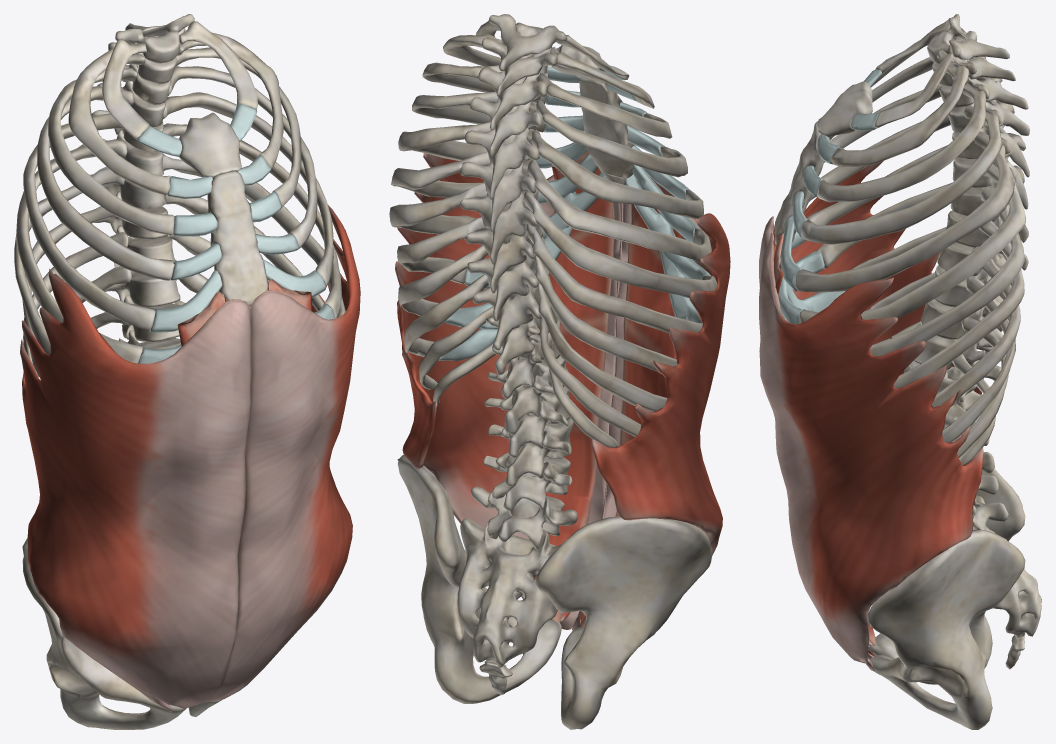
Rendered from abs-superficial.glb.
3 renders of one model, left to right at view 1: azimuth 30°, elevation 25°; view 2: azimuth 150°, elevation 25°; view 3: azimuth 270°, elevation 25°, orthographic. The views are drawn at different scales.
Parts seen in each view (by area): view 1: Right_external_abdominal_oblique_and_aponeurosis, Left_external_abdominal_oblique_and_aponeurosis, Right_hip_bone__os_coxa_or_innominate_bone_, Body_of_sternum, Right_4th_rib, Right_5th_rib, Right_3rd_rib, Right_2nd_rib, Manubrium, Right_6th_rib, Left_5th_rib, Left_4th_rib (+32 smaller); view 2: Right_hip_bone__os_coxa_or_innominate_bone_, Right_external_abdominal_oblique_and_aponeurosis, Left_external_abdominal_oblique_and_aponeurosis, Left_hip_bone__os_coxa_or_innominate_bone_, Sacrum, Left_rectus_abdominis, Right_rectus_abdominis, Right_7th_rib, Right_6th_rib, Right_5th_rib, Right_8th_rib, L5_vertebra (+47 smaller); view 3: Left_external_abdominal_oblique_and_aponeurosis, Left_hip_bone__os_coxa_or_innominate_bone_, Right_external_abdominal_oblique_and_aponeurosis, Left_5th_rib, Left_4th_rib, Left_6th_rib, Left_3rd_rib, Left_7th_rib, Left_2nd_rib, Left_8th_rib, Right_hip_bone__os_coxa_or_innominate_bone_, Left_9th_rib (+32 smaller).
Boxes of the visible parts, bbox=[...] form: Right_external_abdominal_oblique_and_aponeurosis: bbox=[20, 268, 251, 711]; Left_external_abdominal_oblique_and_aponeurosis: bbox=[204, 204, 360, 702]; Right_hip_bone__os_coxa_or_innominate_bone_: bbox=[22, 538, 186, 729]; Body_of_sternum: bbox=[207, 171, 268, 306]; Right_4th_rib: bbox=[37, 85, 174, 280]; Right_5th_rib: bbox=[23, 113, 155, 331]; Right_3rd_rib: bbox=[48, 67, 174, 235]; Right_2nd_rib: bbox=[68, 48, 169, 195]; Manubrium: bbox=[179, 112, 241, 177]; Right_6th_rib: bbox=[16, 139, 142, 363]; Left_5th_rib: bbox=[163, 92, 333, 287]; Left_4th_rib: bbox=[168, 66, 317, 248]; Right_hip_bone__os_coxa_or_innominate_bone_: bbox=[535, 516, 712, 729]; Right_external_abdominal_oblique_and_aponeurosis: bbox=[572, 184, 730, 630]; Left_external_abdominal_oblique_and_aponeurosis: bbox=[395, 153, 623, 629]; Left_hip_bone__os_coxa_or_innominate_bone_: bbox=[397, 455, 561, 703]; Sacrum: bbox=[457, 518, 561, 667]; Left_rectus_abdominis: bbox=[529, 151, 614, 622]; Right_rectus_abdominis: bbox=[580, 177, 682, 627]; Right_7th_rib: bbox=[524, 190, 717, 298]; Right_6th_rib: bbox=[527, 160, 711, 262]; Right_5th_rib: bbox=[530, 129, 703, 218]; Right_8th_rib: bbox=[526, 224, 702, 333]; L5_vertebra: bbox=[471, 486, 577, 549]; Left_external_abdominal_oblique_and_aponeurosis: bbox=[759, 233, 983, 671]; Left_hip_bone__os_coxa_or_innominate_bone_: bbox=[867, 530, 1025, 729]; Right_external_abdominal_oblique_and_aponeurosis: bbox=[759, 161, 983, 652]; Left_5th_rib: bbox=[795, 131, 1014, 292]; Left_4th_rib: bbox=[801, 106, 1002, 244]; Left_6th_rib: bbox=[799, 164, 1025, 323]; Left_3rd_rib: bbox=[817, 82, 986, 202]; Left_7th_rib: bbox=[870, 186, 1024, 356]; Left_2nd_rib: bbox=[831, 64, 969, 166]; Left_8th_rib: bbox=[894, 220, 1024, 388]; Right_hip_bone__os_coxa_or_innominate_bone_: bbox=[869, 468, 1025, 684]; Left_9th_rib: bbox=[932, 246, 1020, 407].
Bounding box in the file's own units: 0.2869 × 0.6221 × 0.236.
Materials: 74 (74 with a texture image).
